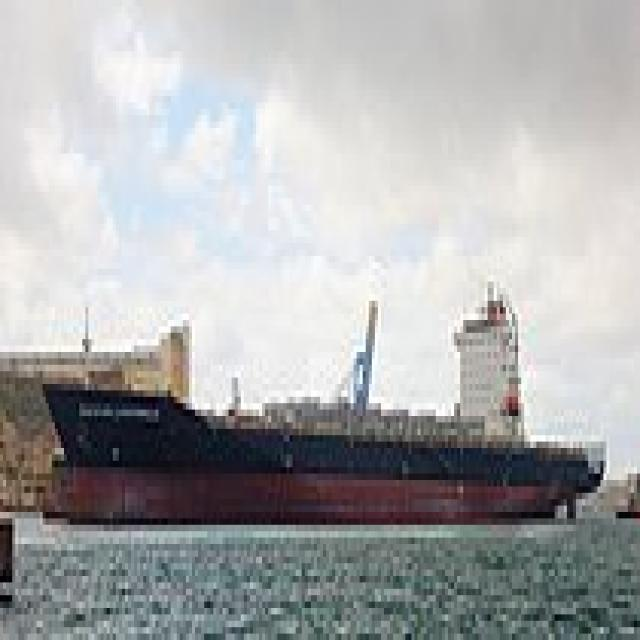Ship: (26, 244, 617, 558)
